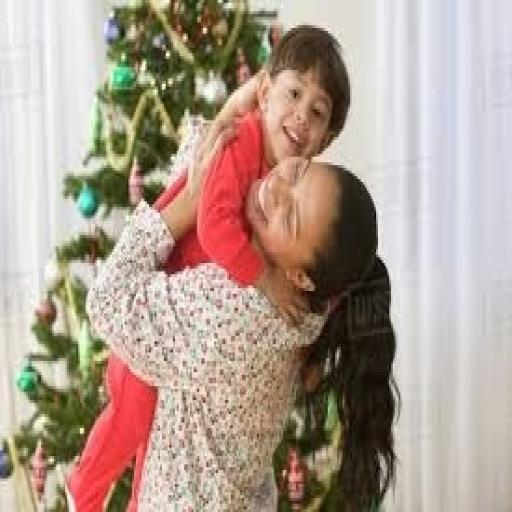hugging: (62, 22, 402, 510)
